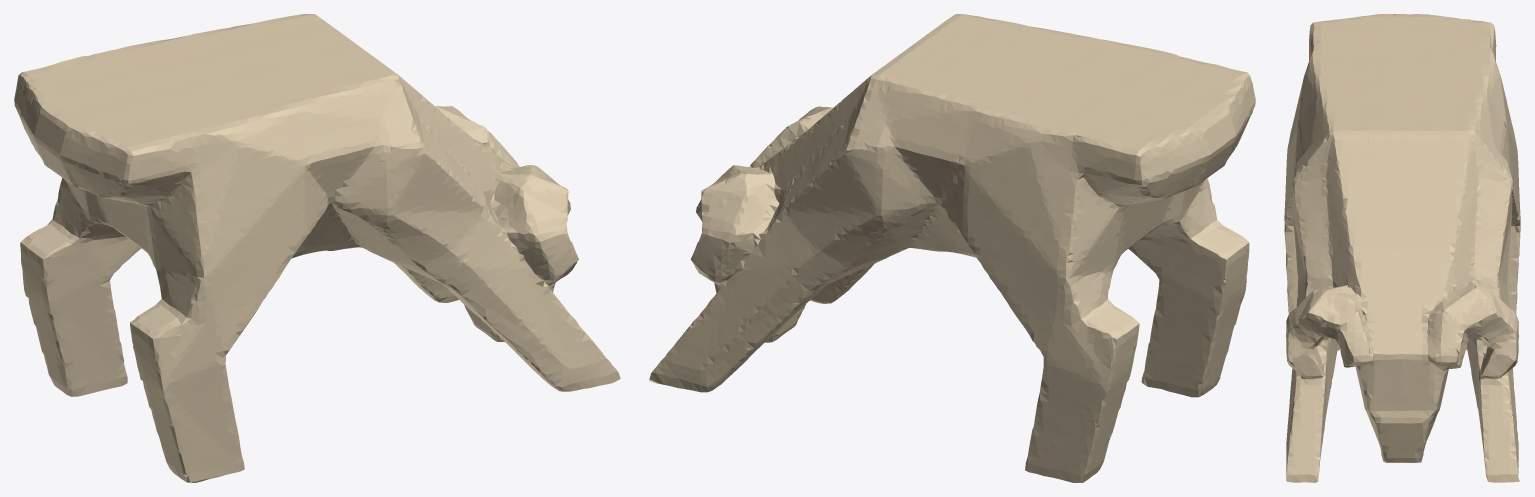
File: dyr-02.glb
3 renders of one model, left to right at view 1: azimuth 30°, elevation 25°; view 2: azimuth 150°, elevation 25°; view 3: azimuth 270°, elevation 25°, orthographic. The views are drawn at different scales.
Visible parts, largest first — view 1: ny-02; view 2: ny-02; view 3: ny-02.
Boxes of the visible parts, x1,y1,x2,y2 form: ny-02: (14,14,620,482); ny-02: (649,14,1255,482); ny-02: (1284,14,1520,482).
Bounding box in the file's own units: 0.9956 × 0.6336 × 0.4948.
